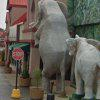Statue: (23, 2, 96, 91)
